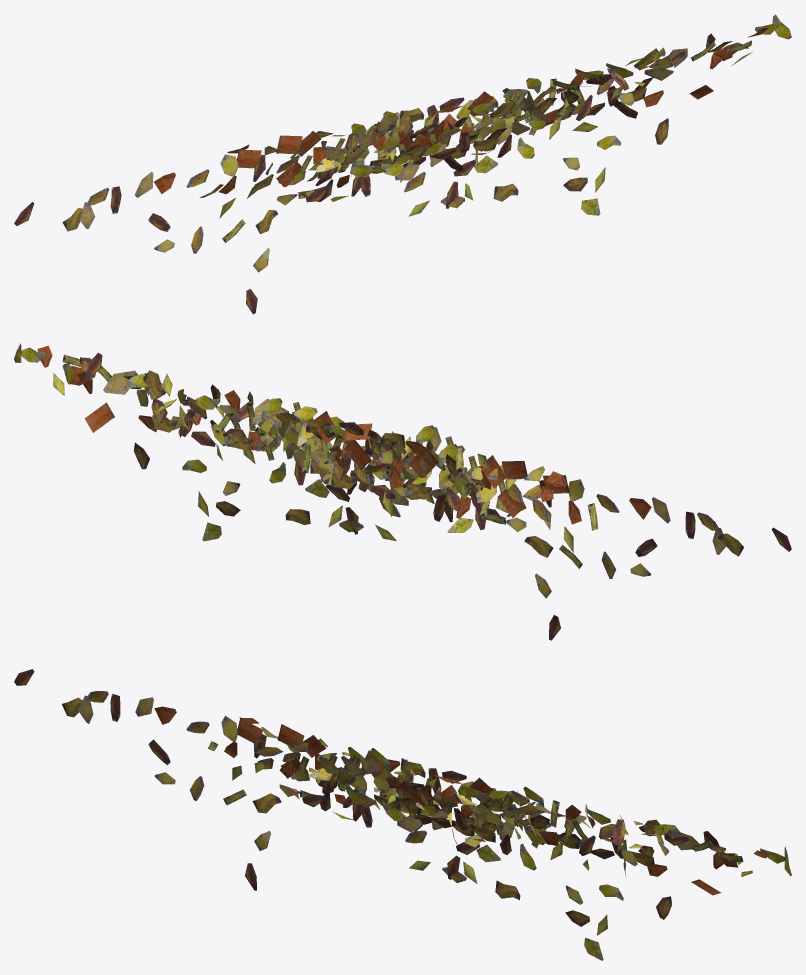
File: hd_dec_UNI_008_LeavesAutumnDark_Norrow.glb
3 views of the same model, one above another, from view 1: azimuth 30°, elevation 25°; view 2: azimuth 150°, elevation 25°; view 3: azimuth 330°, elevation 25° (orthographic).
Visible parts, largest first — view 1: set_0_group_0; view 2: set_0_group_0; view 3: set_0_group_0.
Boxes of the visible parts, x1,y1,x2,y2 form: set_0_group_0: (14, 14, 791, 314); set_0_group_0: (14, 343, 791, 640); set_0_group_0: (14, 669, 791, 960).
Bounding box in the file's own units: 5.32 × 1.17 × 0.2337.
1 material, 1 textured.
